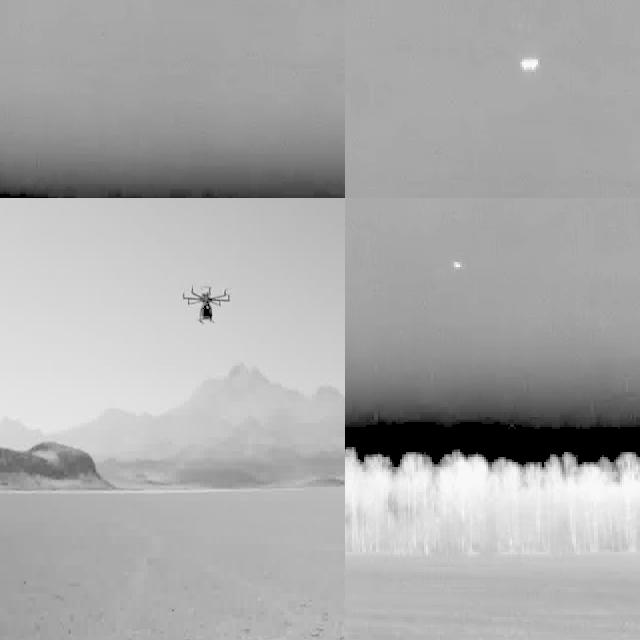1: (436, 250, 470, 286), (510, 53, 546, 83)
drone: (178, 282, 230, 332)
